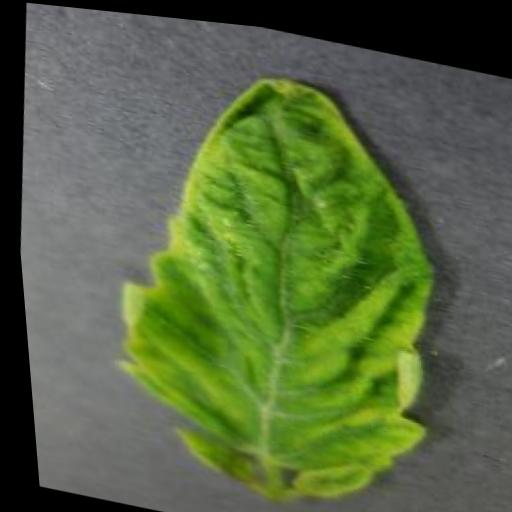Yellow Leaf Curl Virus: (79, 37, 465, 512)
